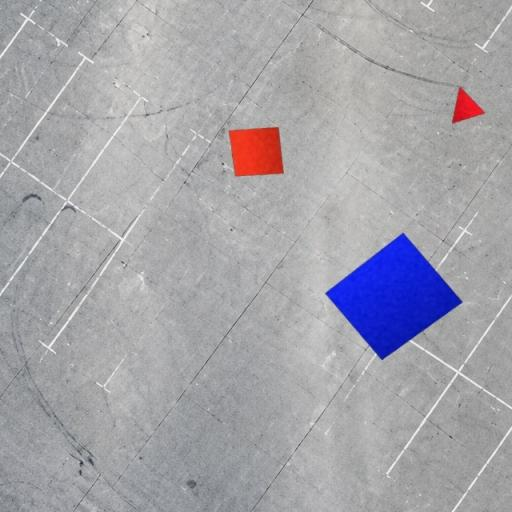BLUE_SQUARE: (324, 232, 463, 361)
RED_SQUARE: (228, 126, 284, 177)
